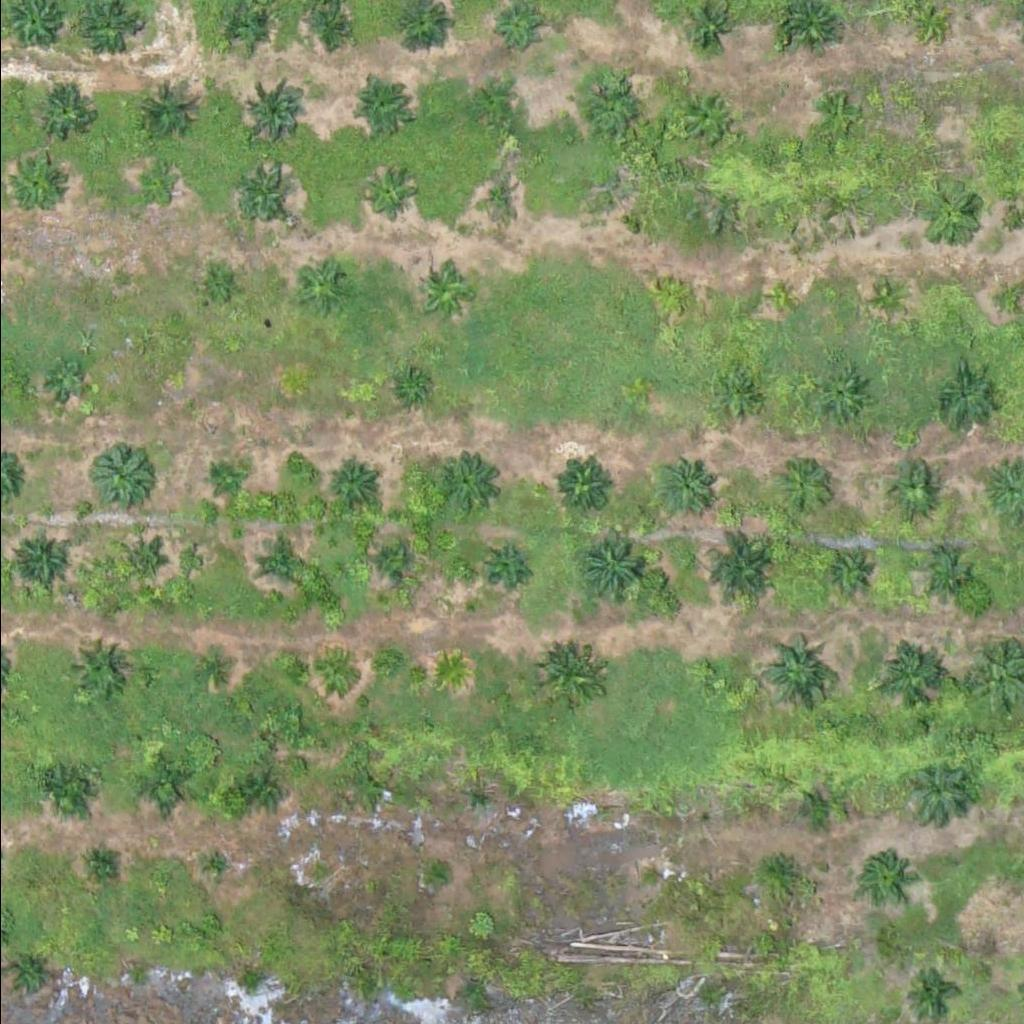Kelapa_Sawit: (695, 525, 783, 612), (756, 633, 832, 708), (577, 528, 652, 603), (93, 442, 156, 505), (289, 253, 352, 316), (771, 451, 834, 514), (654, 454, 717, 517), (905, 762, 968, 825), (537, 645, 600, 708), (580, 70, 643, 133), (935, 369, 998, 432), (412, 260, 475, 323), (805, 365, 868, 428), (344, 75, 407, 137), (131, 76, 194, 138), (230, 163, 293, 225), (247, 79, 310, 141), (434, 448, 497, 510), (551, 452, 614, 514), (877, 645, 940, 707), (9, 526, 72, 588), (65, 636, 128, 698), (32, 756, 95, 818), (677, 88, 740, 150), (131, 755, 194, 817), (917, 184, 980, 246), (363, 169, 414, 219), (325, 454, 376, 504), (904, 965, 955, 1015), (255, 531, 306, 581), (791, 783, 842, 833), (756, 845, 807, 895), (469, 173, 520, 223), (471, 85, 522, 135), (494, 3, 545, 53), (41, 89, 91, 139), (9, 159, 59, 209), (885, 463, 935, 513), (476, 535, 526, 585), (859, 850, 909, 900), (717, 368, 767, 418), (4, 951, 54, 1001), (113, 532, 163, 582), (362, 536, 412, 586), (814, 94, 864, 144), (306, 1, 356, 51), (222, 3, 272, 53), (823, 544, 874, 593), (431, 651, 469, 689), (194, 849, 232, 887), (242, 773, 280, 811), (309, 653, 347, 691), (189, 652, 227, 690), (351, 769, 389, 807), (985, 281, 1023, 319), (866, 279, 904, 317), (759, 281, 797, 319), (659, 277, 697, 315), (912, 3, 950, 41), (388, 368, 426, 406), (136, 164, 174, 202), (927, 554, 965, 591), (457, 778, 495, 815), (205, 459, 243, 496), (905, 101, 943, 138), (607, 184, 645, 221), (200, 267, 237, 304), (50, 362, 87, 399), (90, 851, 116, 876), (430, 863, 455, 888), (639, 860, 664, 885), (692, 661, 717, 686)
